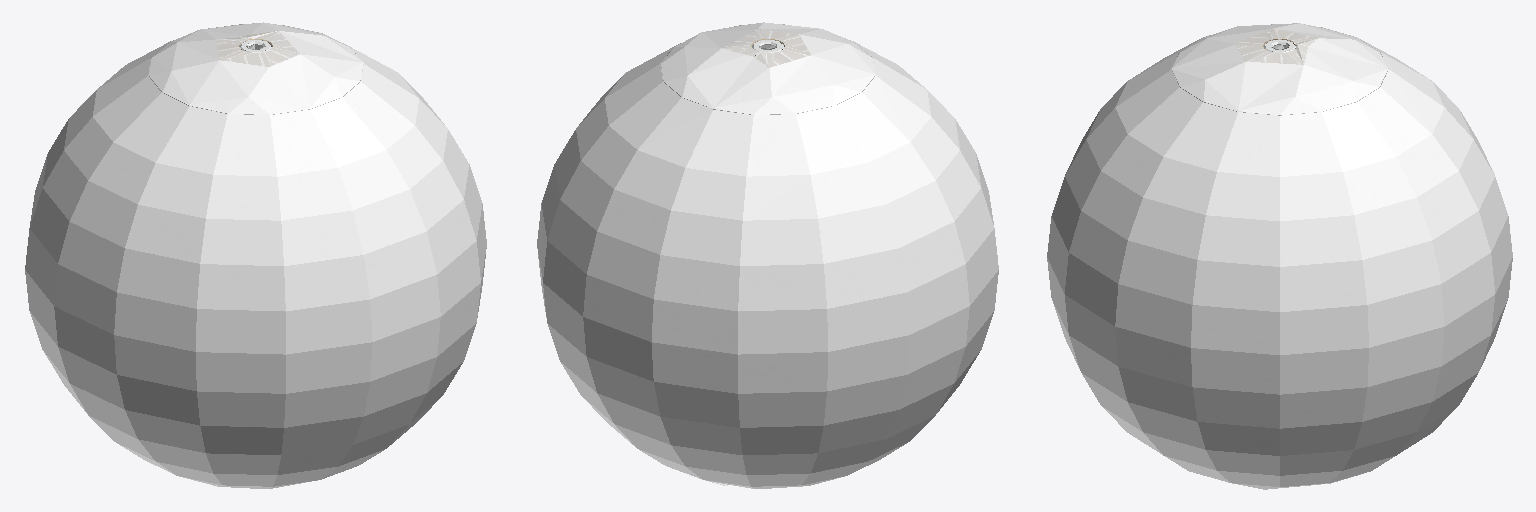
3 renders of one model, left to right at view 1: azimuth 30°, elevation 25°; view 2: azimuth 150°, elevation 25°; view 3: azimuth 270°, elevation 25°, orthographic.
Visible parts, largest first — view 1: Moon2_lambert1_0.001; view 2: Moon2_lambert1_0.001; view 3: Moon2_lambert1_0.001.
Part boxes in pixels (x1,y1,x2,y2): Moon2_lambert1_0.001: (25, 22, 486, 488); Moon2_lambert1_0.001: (537, 22, 998, 488); Moon2_lambert1_0.001: (1047, 23, 1512, 489).
Bounding box in the file's own units: 1.01 × 1.02 × 1.01.
Materials: 1 (1 with a texture image).